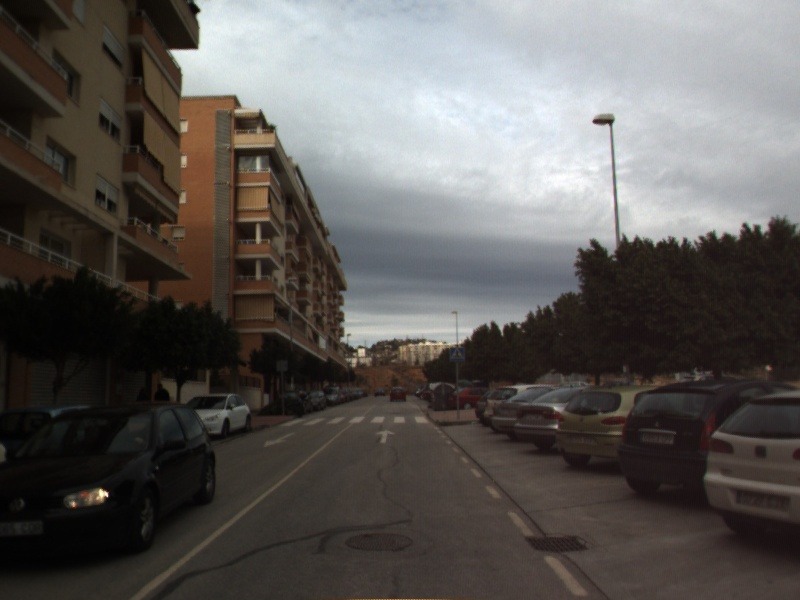STRAIGHT: (374, 427, 398, 445)
